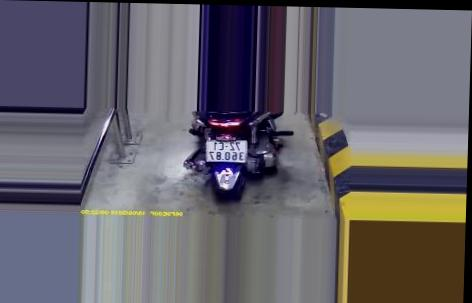License_Plate: (203, 136, 254, 168)
